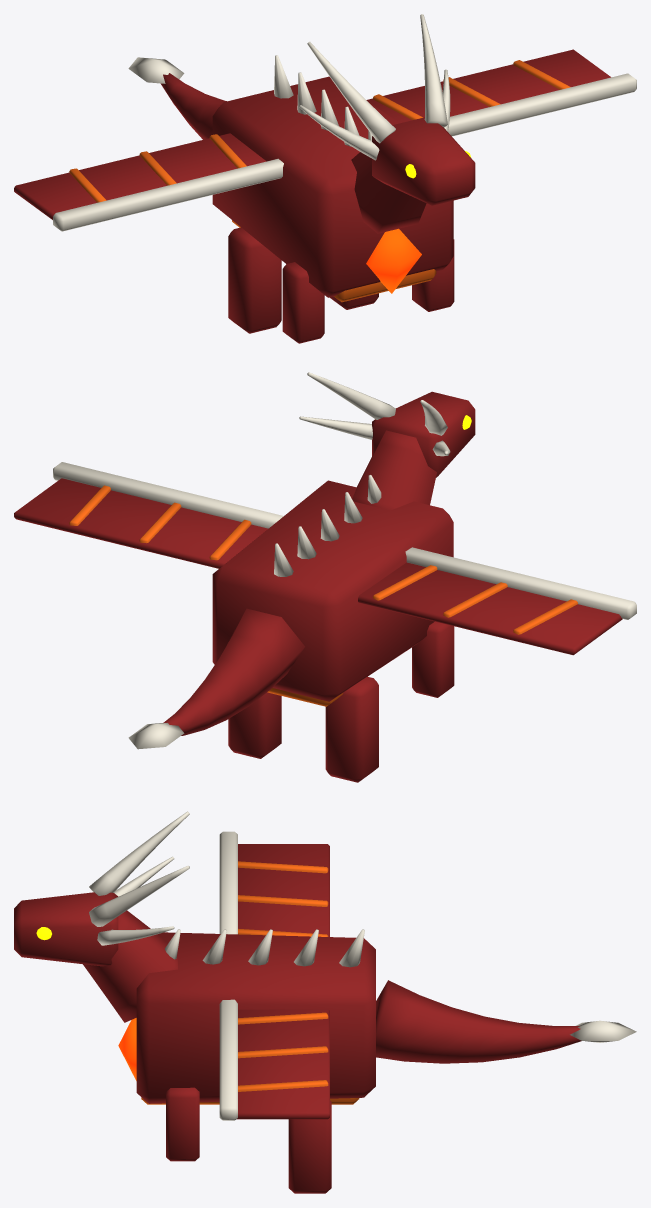
The model's file is dragon.glb.
3 views of the same model, one above another, from view 1: azimuth 30°, elevation 25°; view 2: azimuth 150°, elevation 25°; view 3: azimuth 270°, elevation 25° (orthographic).
Parts seen in each view (by area): view 1: Body, Head, LeftWing, RightWing, LeftLeg, Tail, LeftArm, RightArm; view 2: Body, LeftWing, RightWing, Head, Tail, LeftLeg, RightLeg, LeftArm; view 3: Body, Head, RightWing, Tail, LeftWing, RightLeg, RightArm.
Boxes of the visible parts, x1,y1,x2,y2 form: Body: (212, 55, 453, 302); Head: (299, 14, 475, 233); LeftWing: (14, 133, 283, 231); RightWing: (366, 49, 636, 136); LeftLeg: (228, 227, 281, 333); Tail: (128, 57, 226, 139); LeftArm: (282, 262, 324, 343); RightArm: (412, 239, 454, 311); Body: (212, 475, 453, 706); LeftWing: (358, 547, 636, 655); RightWing: (14, 462, 283, 568); Head: (299, 372, 475, 510); Tail: (128, 608, 304, 749); LeftLeg: (325, 676, 378, 782); RightLeg: (228, 692, 281, 758); LeftArm: (412, 621, 454, 697); Body: (118, 929, 375, 1104); Head: (14, 811, 189, 1022); RightWing: (219, 999, 329, 1120); Tail: (376, 980, 636, 1063); LeftWing: (219, 831, 329, 936); RightLeg: (288, 1100, 331, 1193); RightArm: (166, 1087, 199, 1161).
Bounding box in the file's own units: 4.28 × 2.34 × 4.06.
